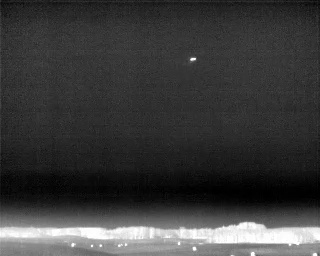AIRPLANE: (188, 54, 198, 64)
